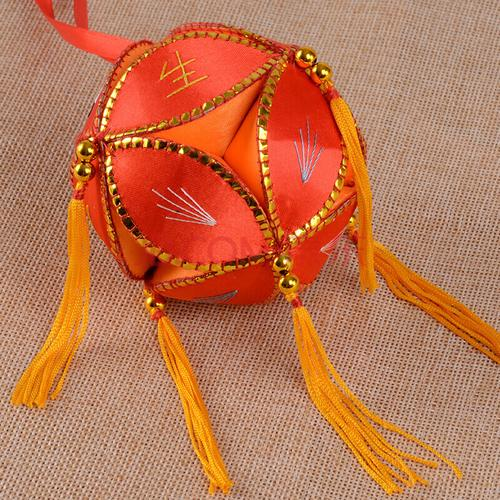xiuqiu: (77, 23, 368, 309)
